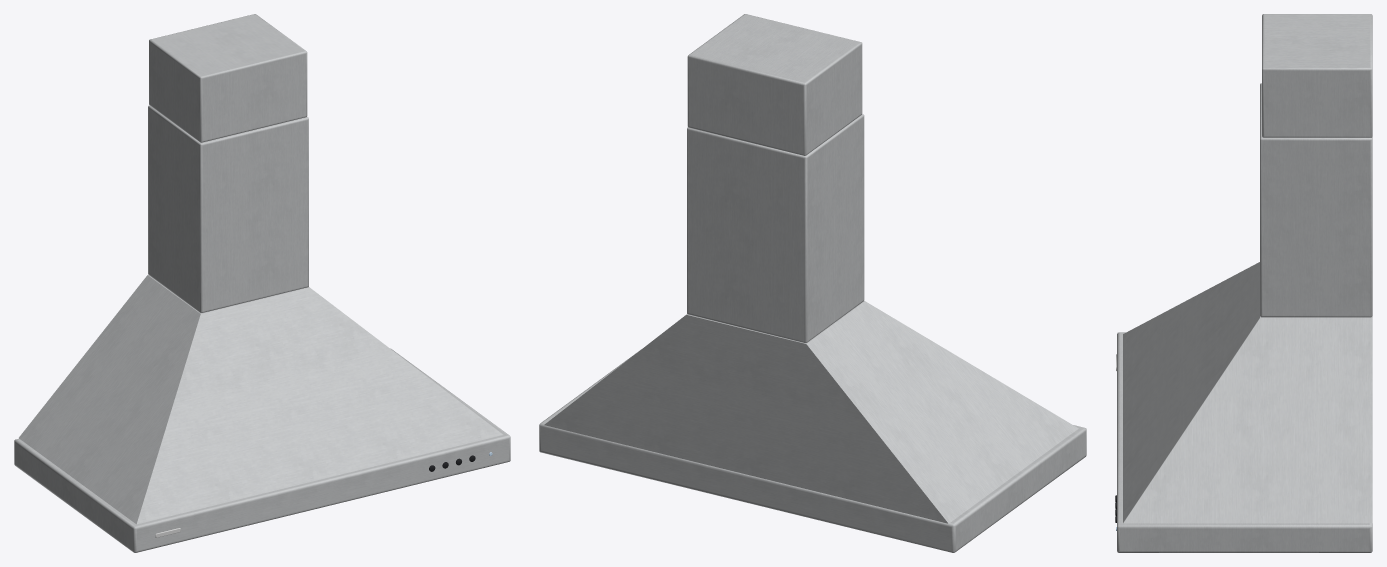
File: campana_pared_90.glb
3 renders of one model, left to right at view 1: azimuth 30°, elevation 25°; view 2: azimuth 150°, elevation 25°; view 3: azimuth 270°, elevation 25°, orthographic. The views are drawn at different scales.
Visible parts, largest first — view 1: campana_pared_90; view 2: campana_pared_90; view 3: campana_pared_90.
Part boxes in pixels (x1=…): campana_pared_90: x1=14, y1=14, x2=510, y2=552; campana_pared_90: x1=539, y1=14, x2=1086, y2=552; campana_pared_90: x1=1115, y1=14, x2=1372, y2=552.
Size of the model in its own units: 0.9 by 0.9 by 0.503.
5 materials, 1 textured.
